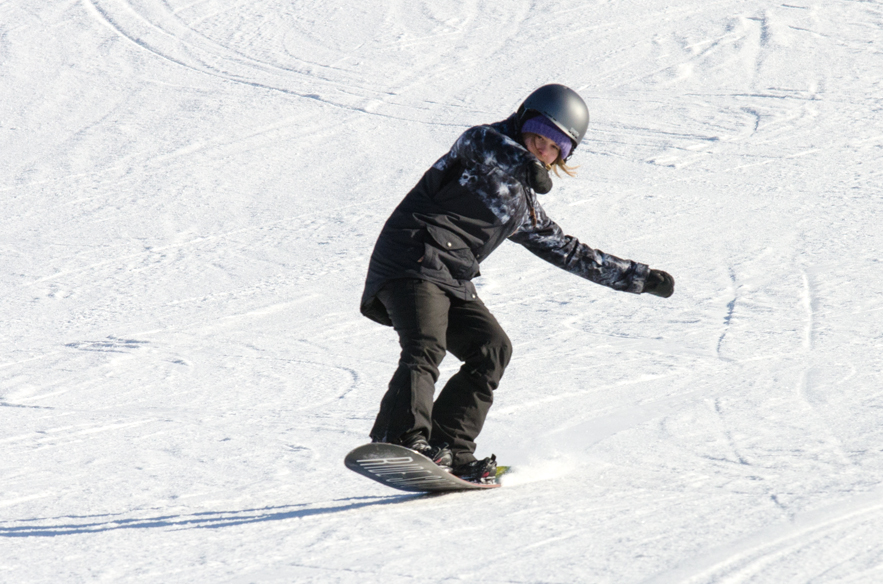snowboarder: (343, 80, 678, 511)
